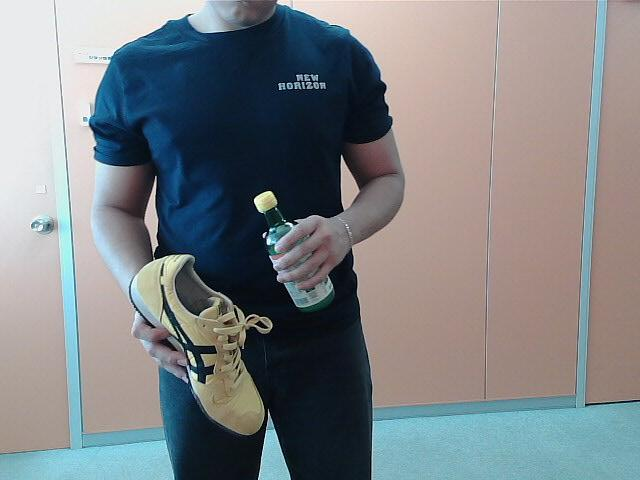Lemon_sapporo: (250, 189, 339, 313)
Shoes: (123, 251, 265, 436)
